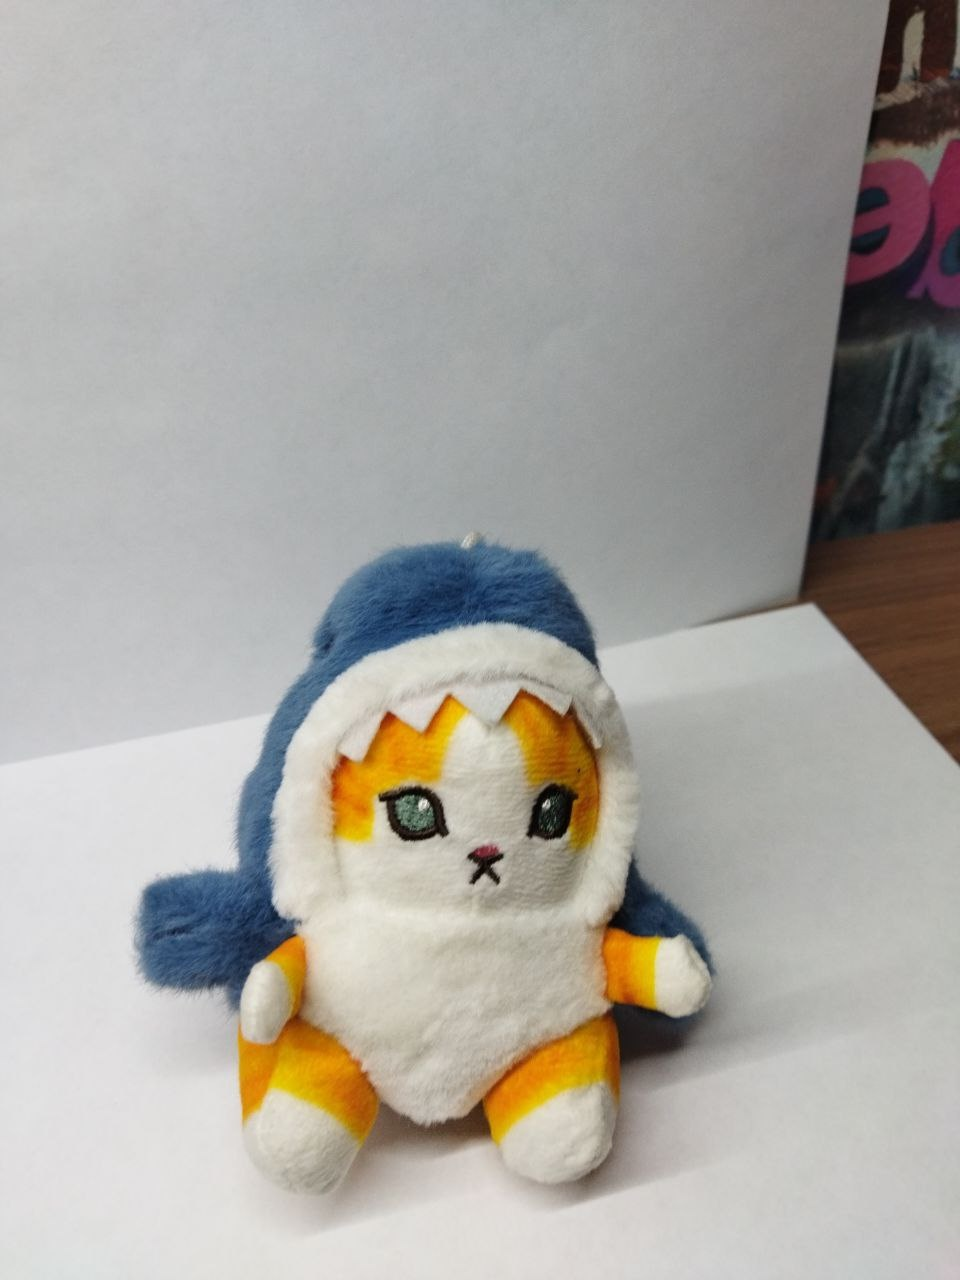Snark Cat: (132, 537, 713, 1197)
